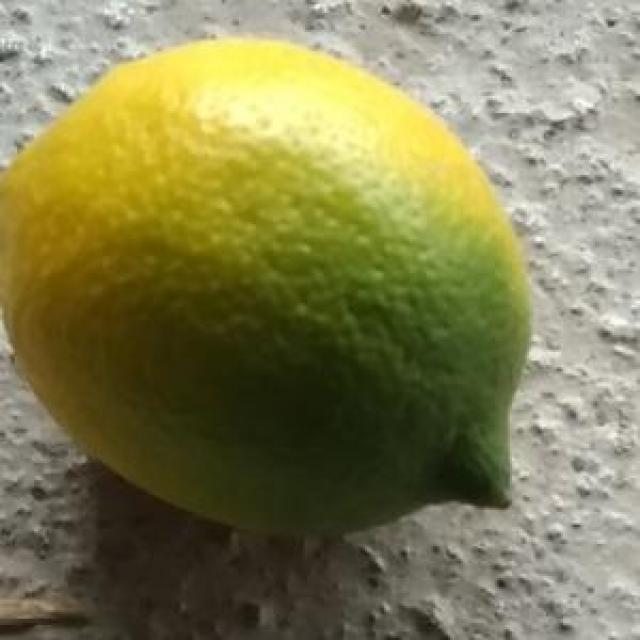lemon: (0, 36, 532, 542)
